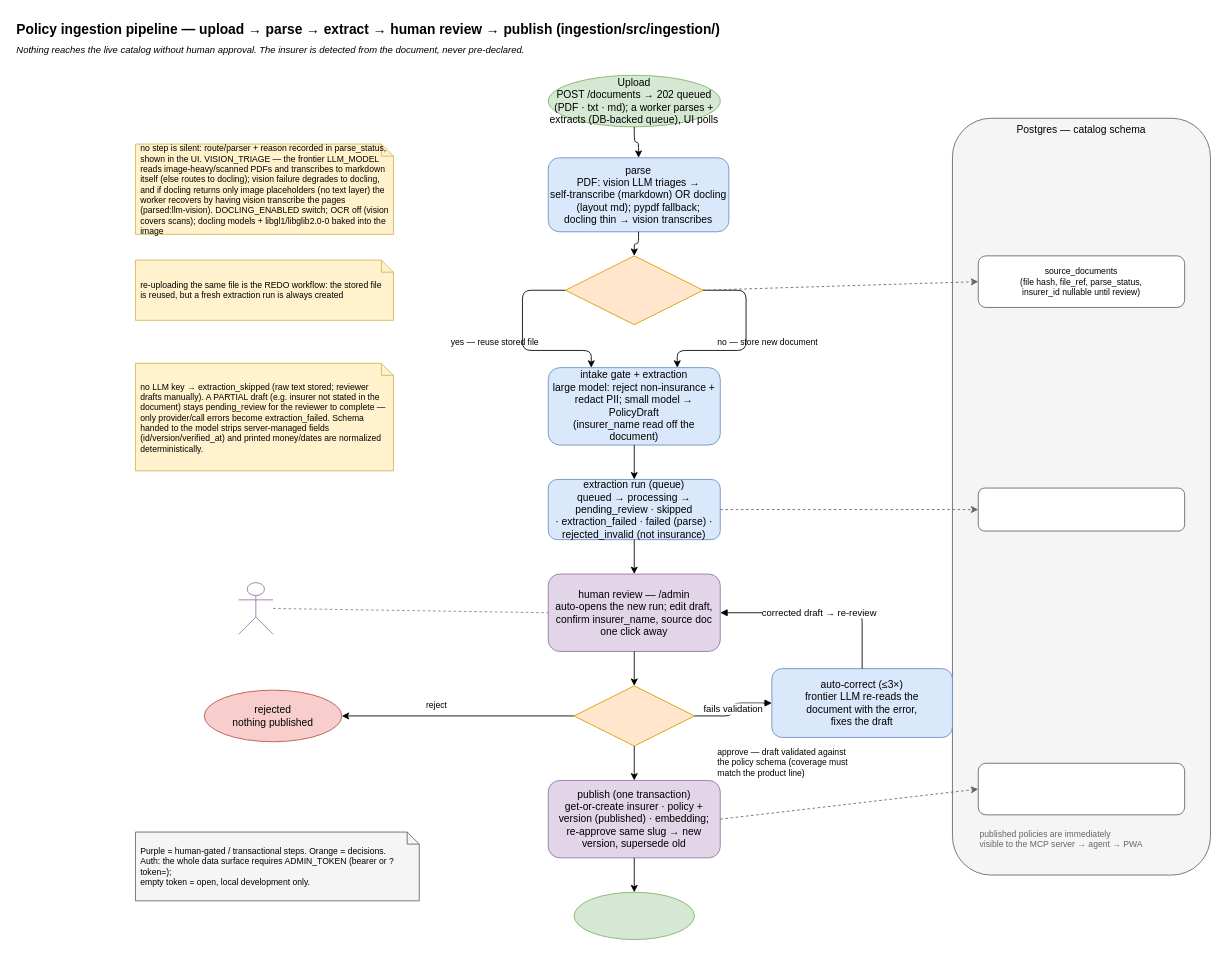
The diagram is 1226 pixels wide and 955 high, and some of its shapes have lost their labels. Here are the shapes that lost their labels. From the top down, the centre of each, then its label:
At (x=634, y=290): "file hash seen before?".
At (x=1081, y=509): "extraction_runs (output draft, status, reviewed_by)".
At (x=255, y=608): "Reviewer (non-engineer)".
At (x=633, y=715): "approve?".
At (x=1081, y=788): "insurers (get-or-create) · policies · policy_versions · policy_embeddings".
At (x=633, y=915): "LIVE in the catalog".
